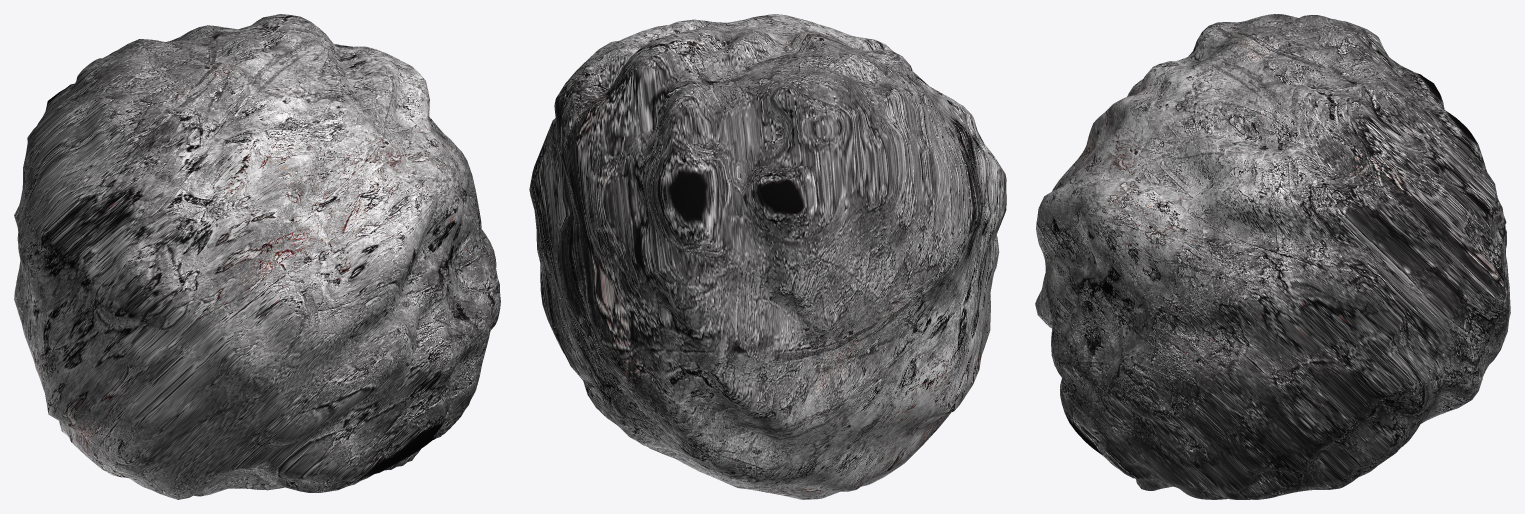
Rendered from PlatinumFBX.fbx.
3 views of the same model, side by side, from view 1: azimuth 30°, elevation 25°; view 2: azimuth 150°, elevation 25°; view 3: azimuth 270°, elevation 25° (orthographic). The views are drawn at different scales.
Parts seen in each view (by area): view 1: pSphere2; view 2: pSphere2; view 3: pSphere2.
Boxes of the visible parts, x1=… form: pSphere2: x1=14, y1=14, x2=500, y2=499; pSphere2: x1=529, y1=14, x2=1006, y2=499; pSphere2: x1=1035, y1=14, x2=1510, y2=499.
Bounding box in the file's own units: 9.59 × 9.43 × 9.64.
